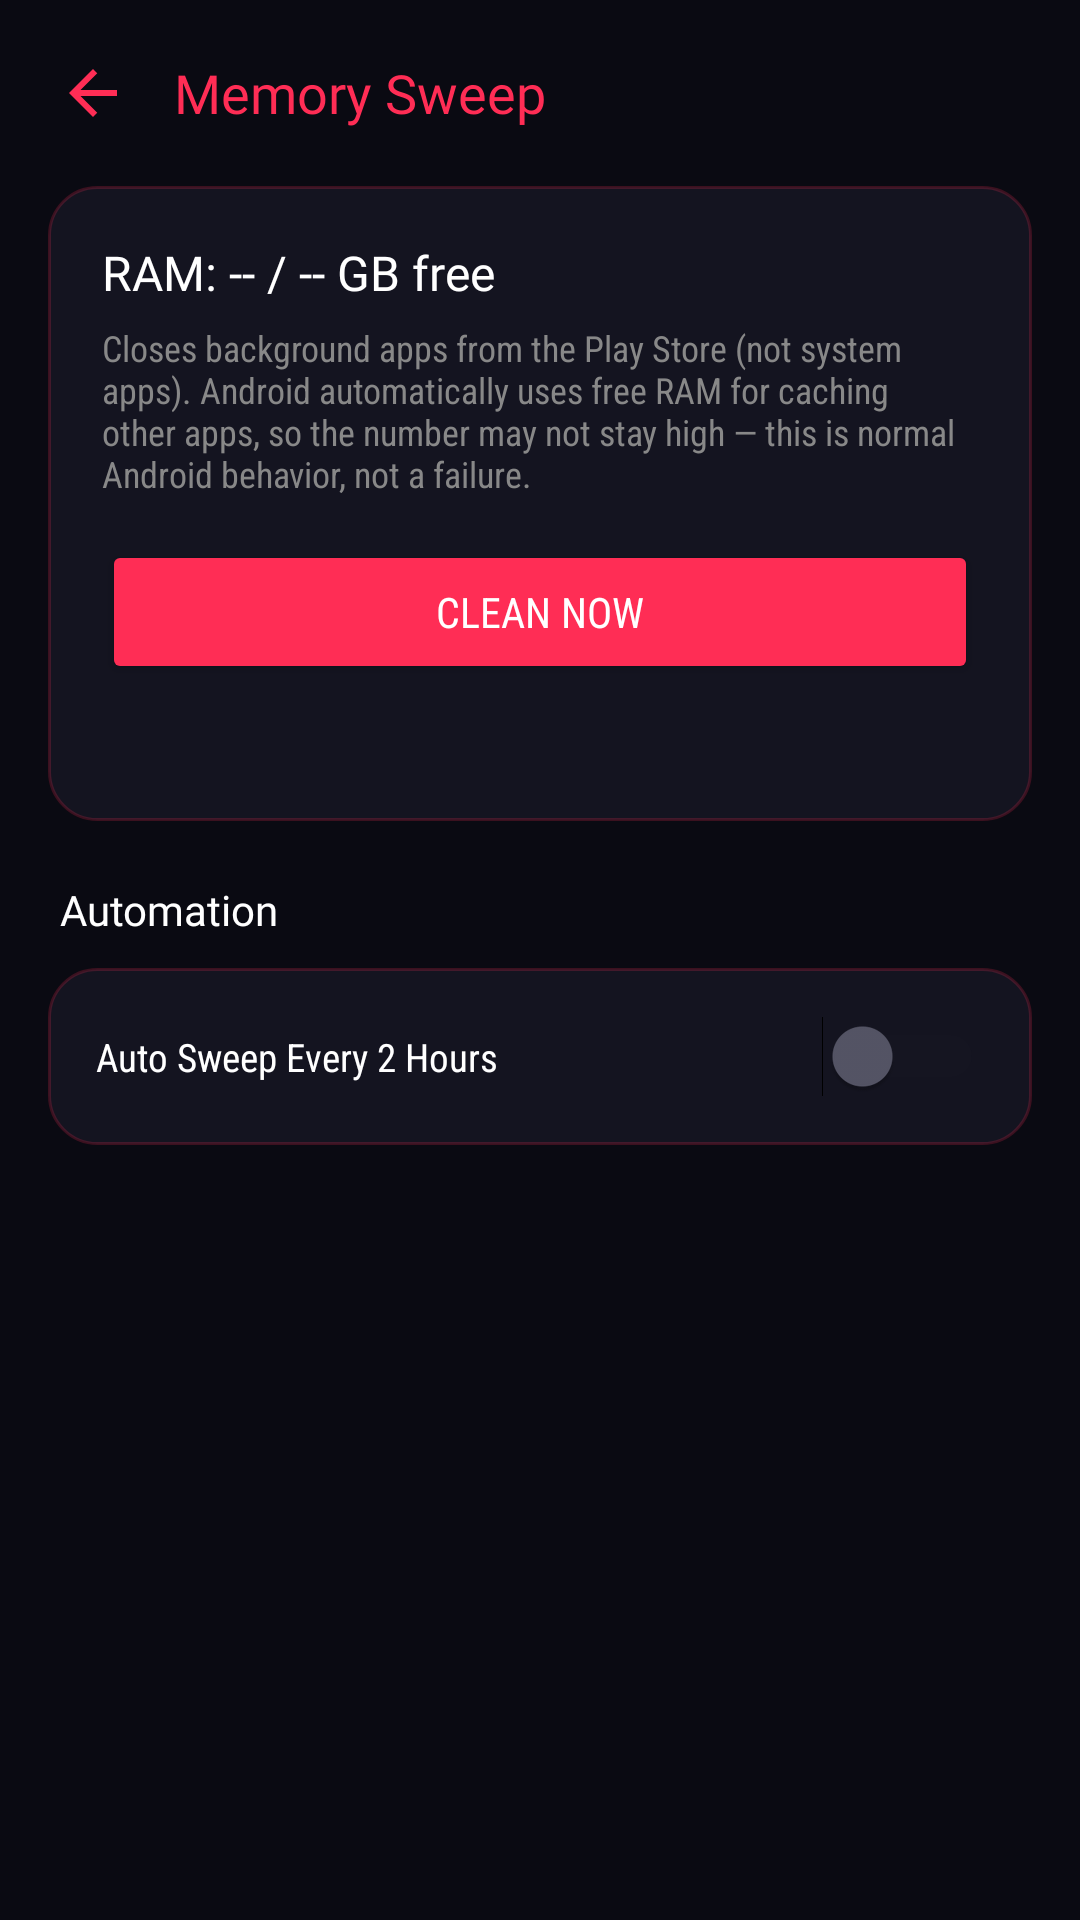

Icon bounding boxes for this 1080px×1920px phone screenshot, format (x1, y1, x2, y2):
Back: (69, 69, 117, 117)
